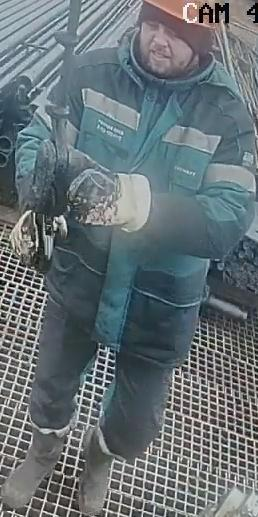gloves: (65, 168, 161, 235)
helmet: (144, 0, 217, 39)
vest: (38, 40, 257, 354)
